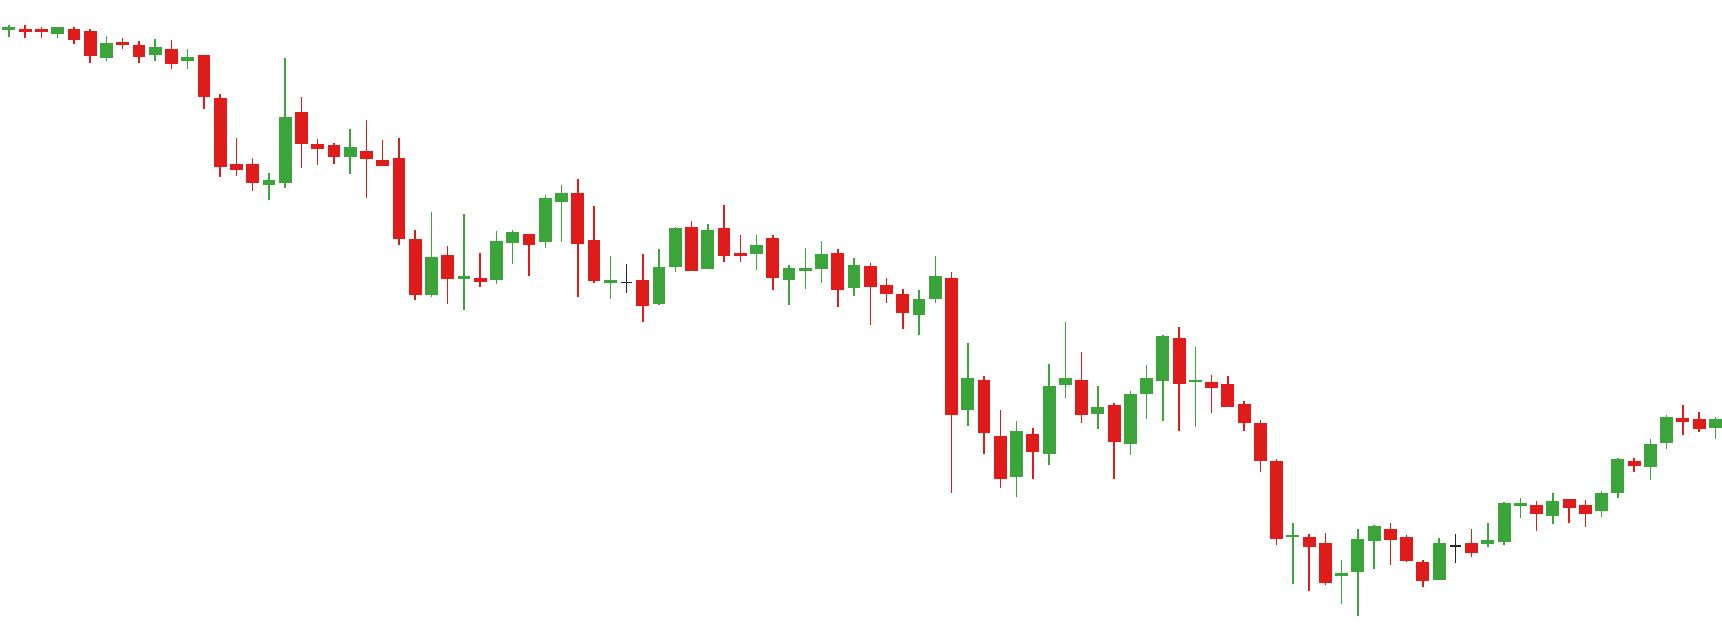sell: (1075, 328, 1189, 426)
